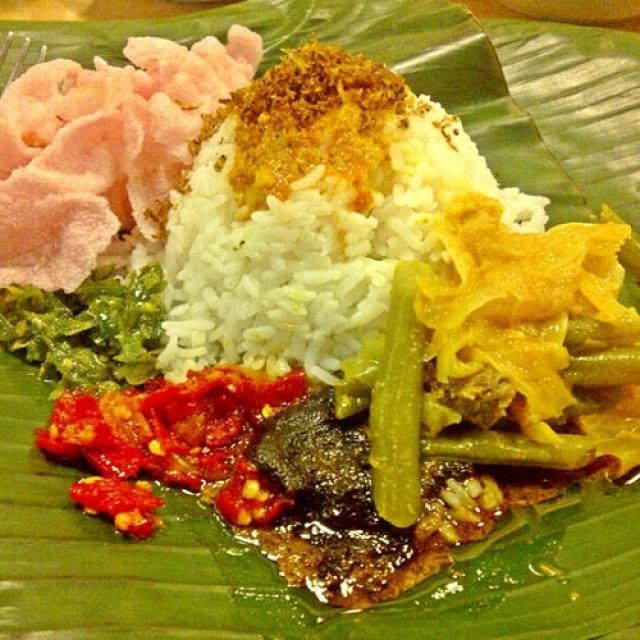米饭主食: (13, 18, 621, 602)
